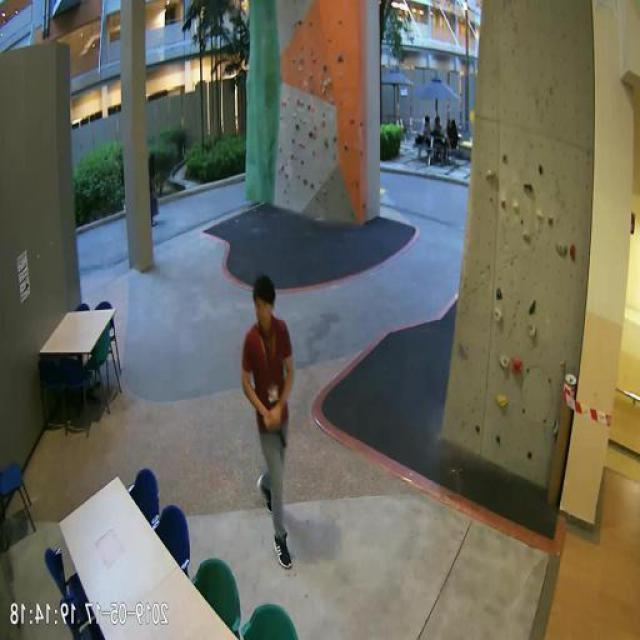weapon: (266, 412, 288, 450)
